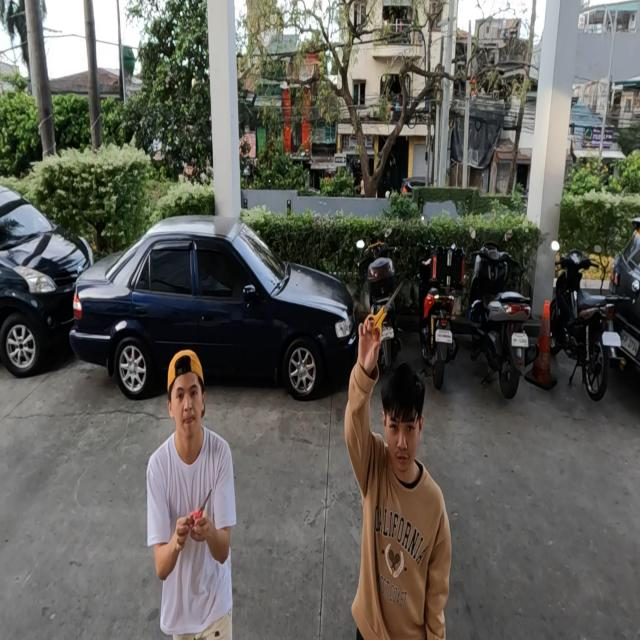scissor: (366, 281, 404, 340), (186, 487, 213, 533)
